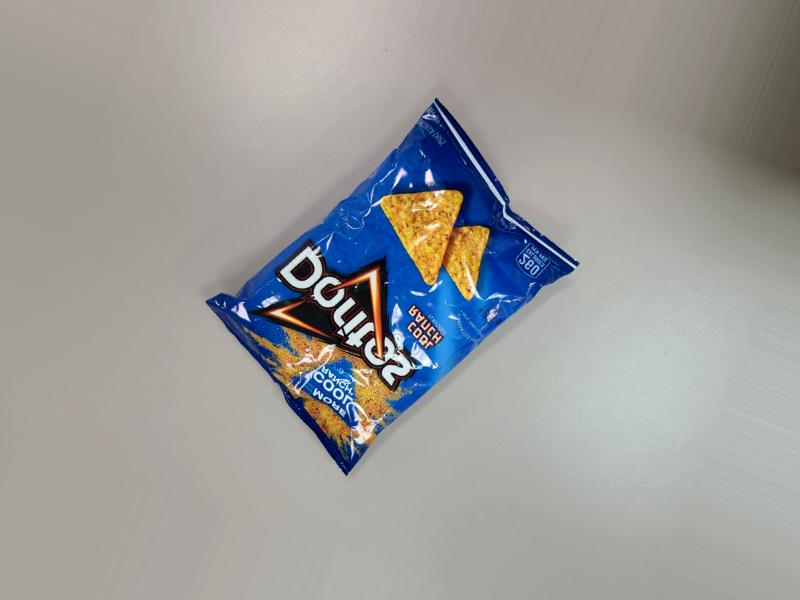doritos: (218, 82, 571, 473)
